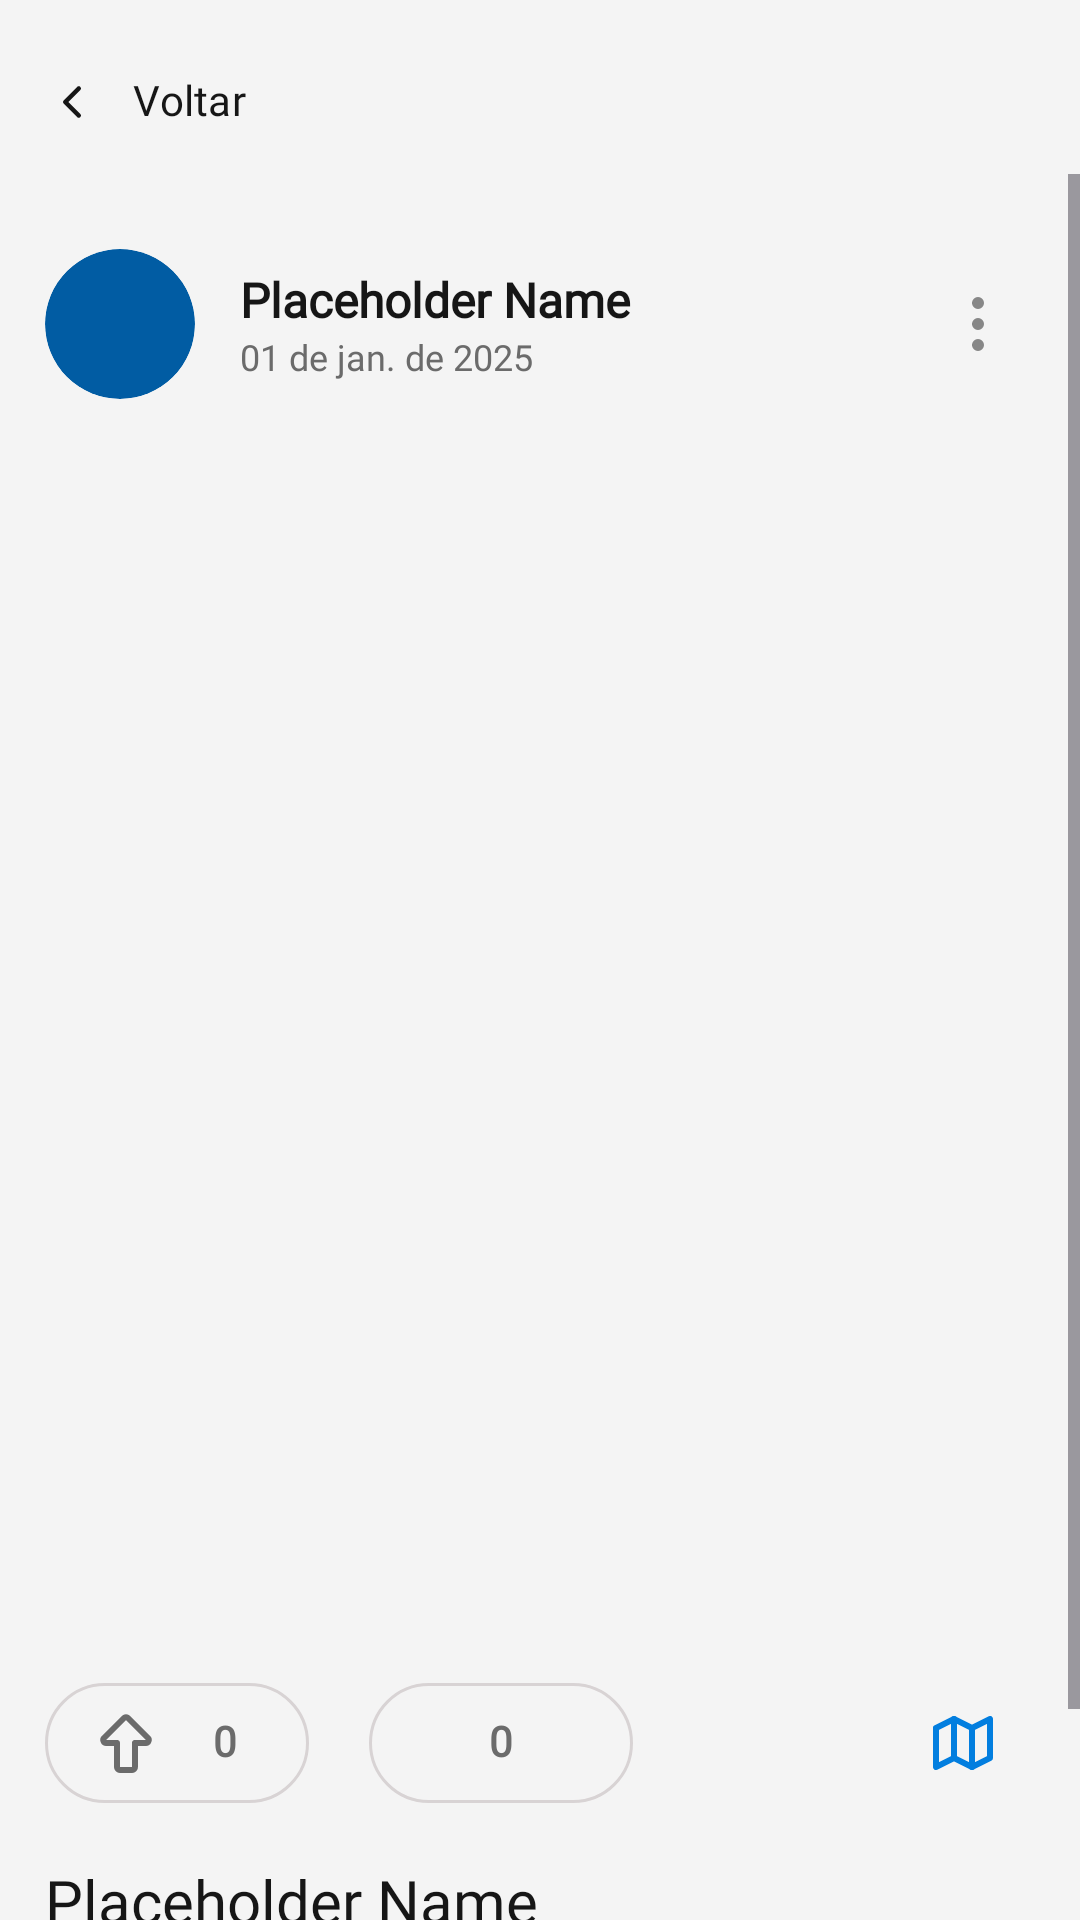

Named icons in this screenshot (1080px×1920px) and their centers, [x,y]:
dots vertical: [978,324]
map: [963,1743]
